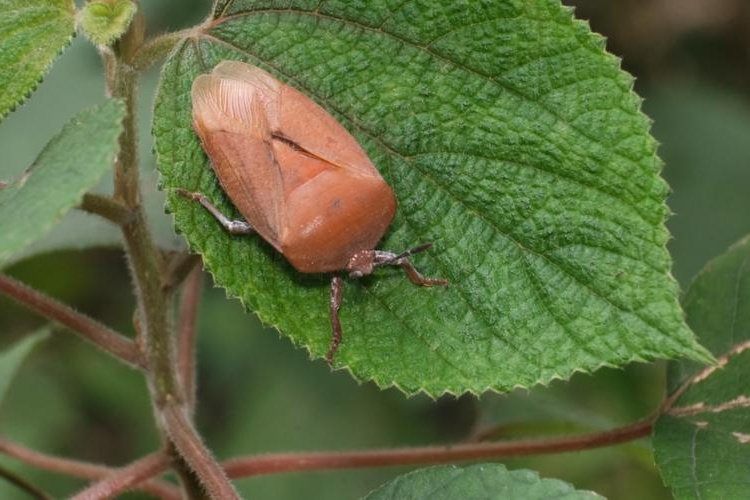Stink_Bug: (187, 40, 381, 300)
